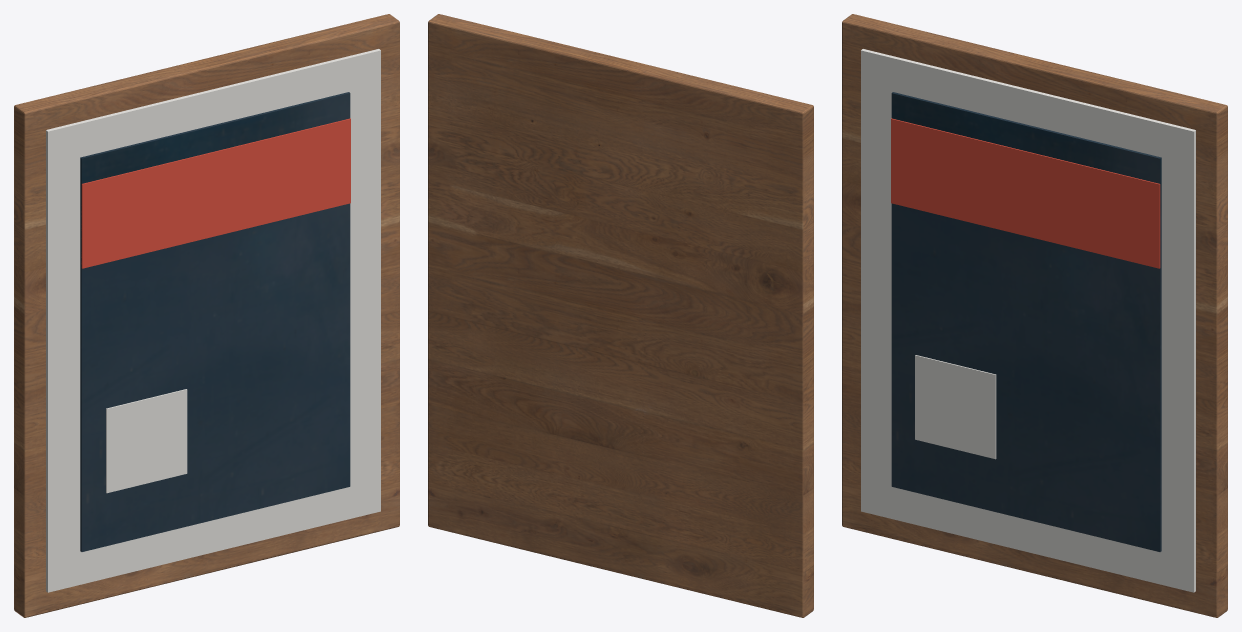
The model's file is wall_art_a.glb.
3 views of the same model, side by side, from view 1: azimuth 30°, elevation 25°; view 2: azimuth 150°, elevation 25°; view 3: azimuth 330°, elevation 25° (orthographic).
Parts seen in each view (by area): view 1: WallArt_A; view 2: WallArt_A; view 3: WallArt_A.
Boxes of the visible parts, x1,y1,x2,y2 form: WallArt_A: [14, 14, 399, 617]; WallArt_A: [428, 14, 813, 617]; WallArt_A: [842, 14, 1227, 617].
Size of the model in its own units: 0.84 by 1.08 by 0.0588.
4 materials, 2 textured.
